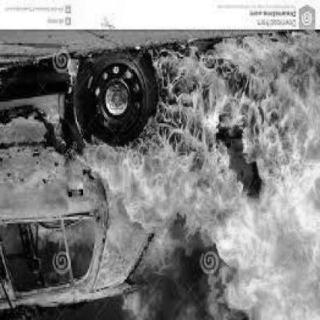Fire: (3, 36, 320, 320)
